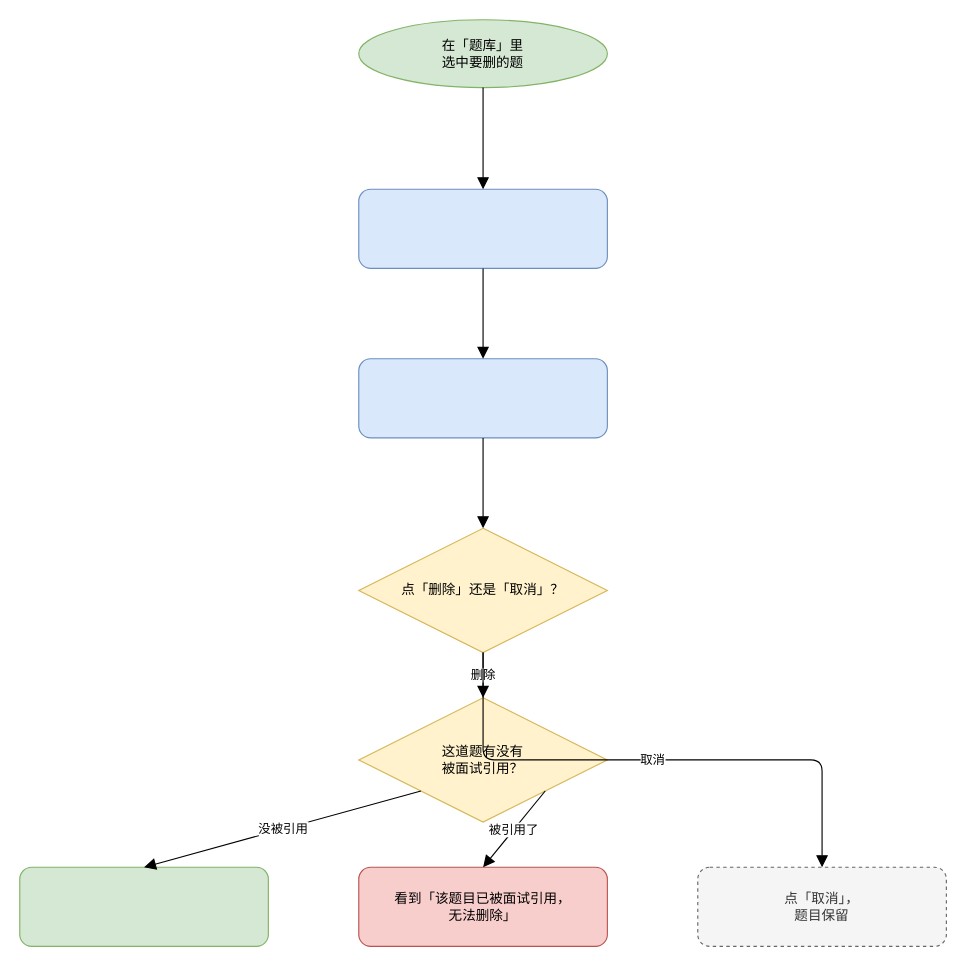
Image size: 966x966. Some labels were removed from this diagram. Each missing label, with the box of its shape:
弹出确认： 「删除这道题？」: (358, 358, 607, 438)
点右侧的「删除」: (358, 188, 607, 268)
看到「题目已删除」: (19, 866, 268, 946)
